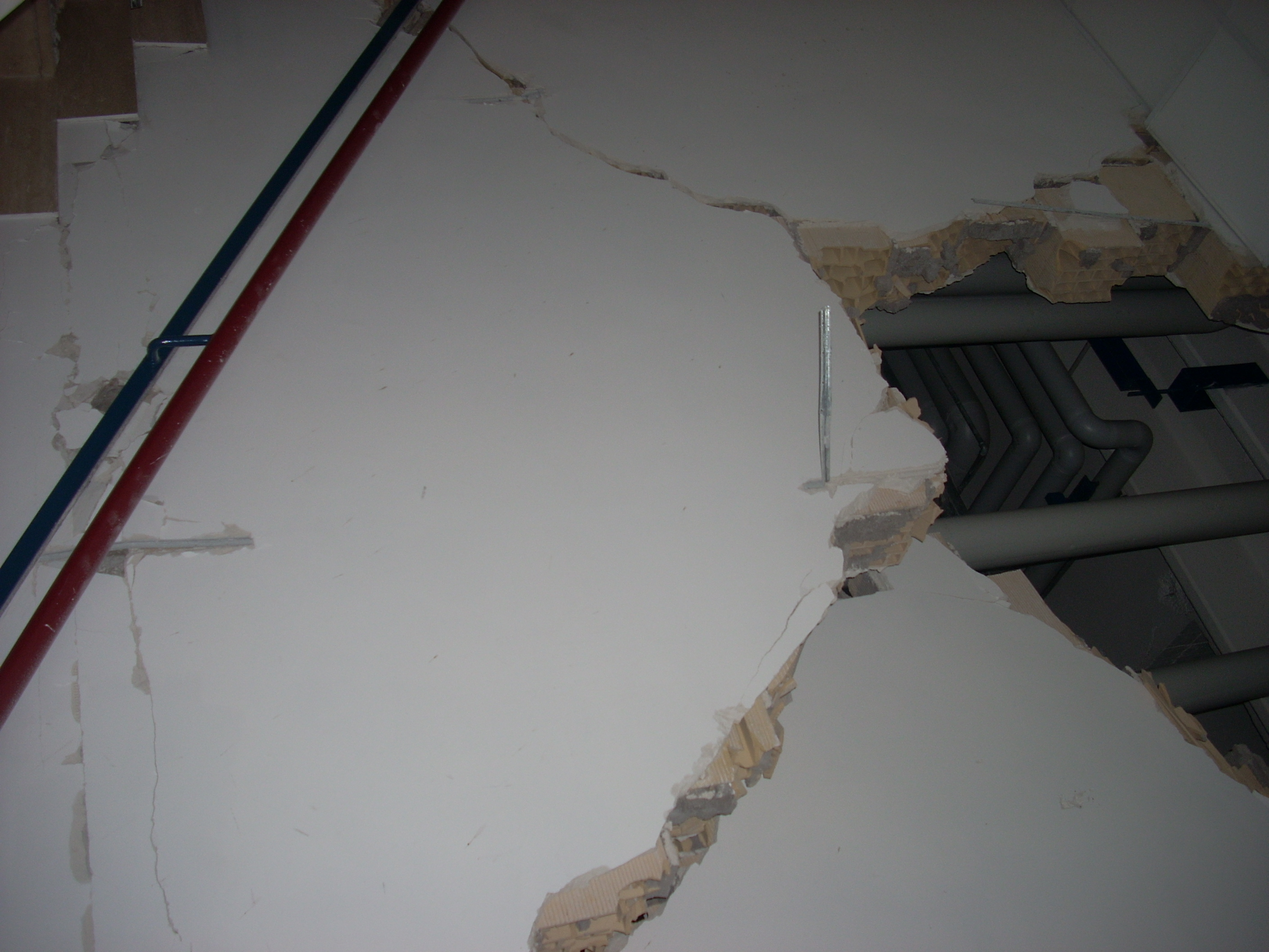Crack: (444, 6, 812, 243), (34, 549, 216, 947), (10, 119, 169, 489)
Other damage/mechanism: (471, 101, 1266, 950)
